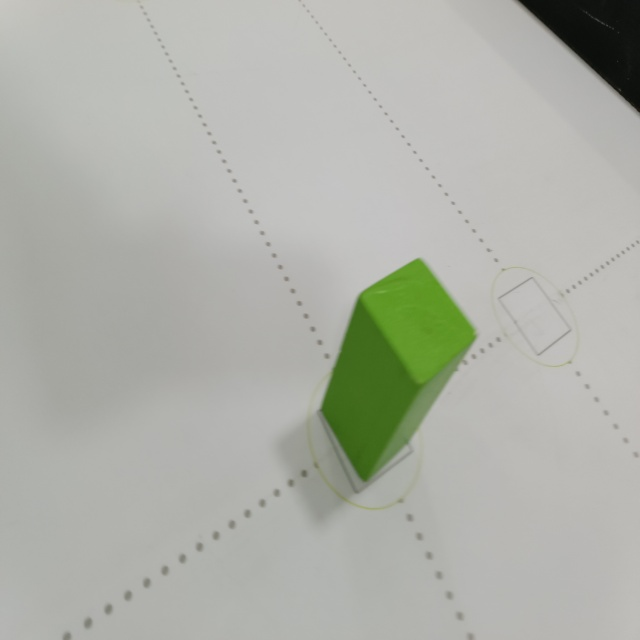green rectangular prism: (310, 252, 487, 489)
